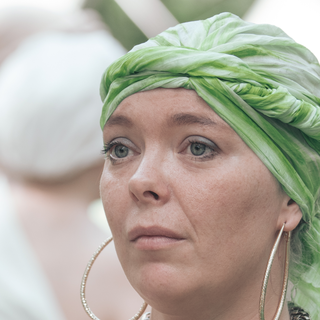eye: (168, 131, 225, 165), (97, 132, 143, 168)
